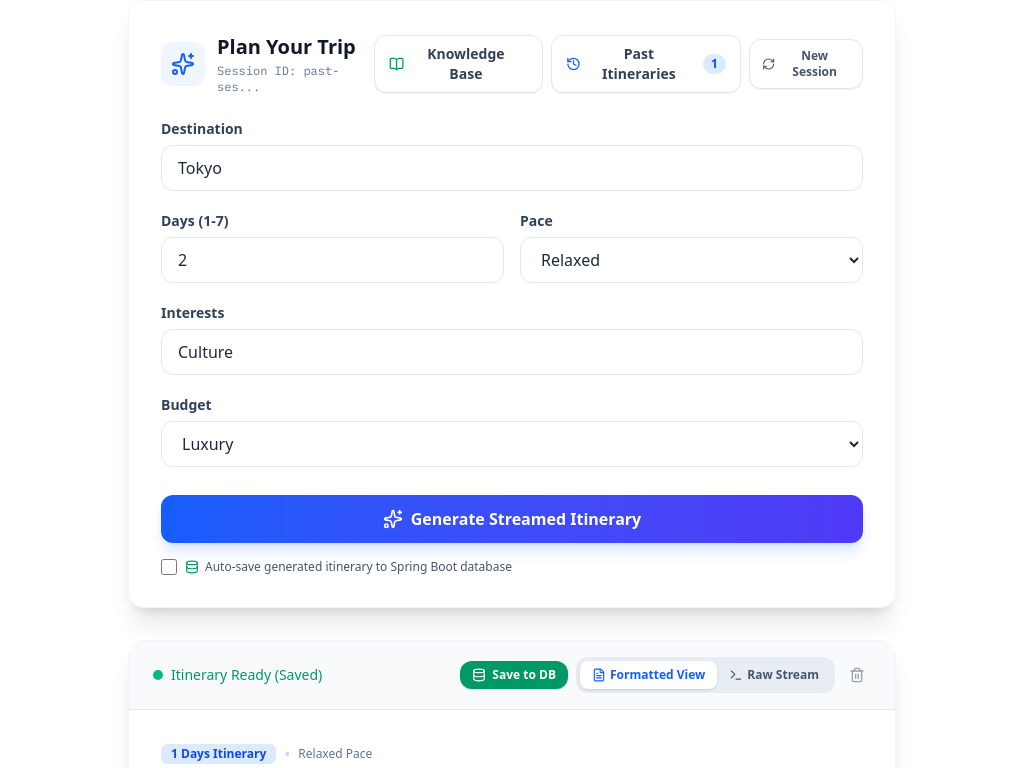
ItineraryForm Component › Auto-save & Manual DB Save Handlers › saves a past itinerary to database from Past Itineraries drawer when Save to DB button is clicked
The image size is (1024, 768).
// Open Past Itineraries drawer
Click the button "Past Itineraries 1": (646, 64) [551,35,741,93]
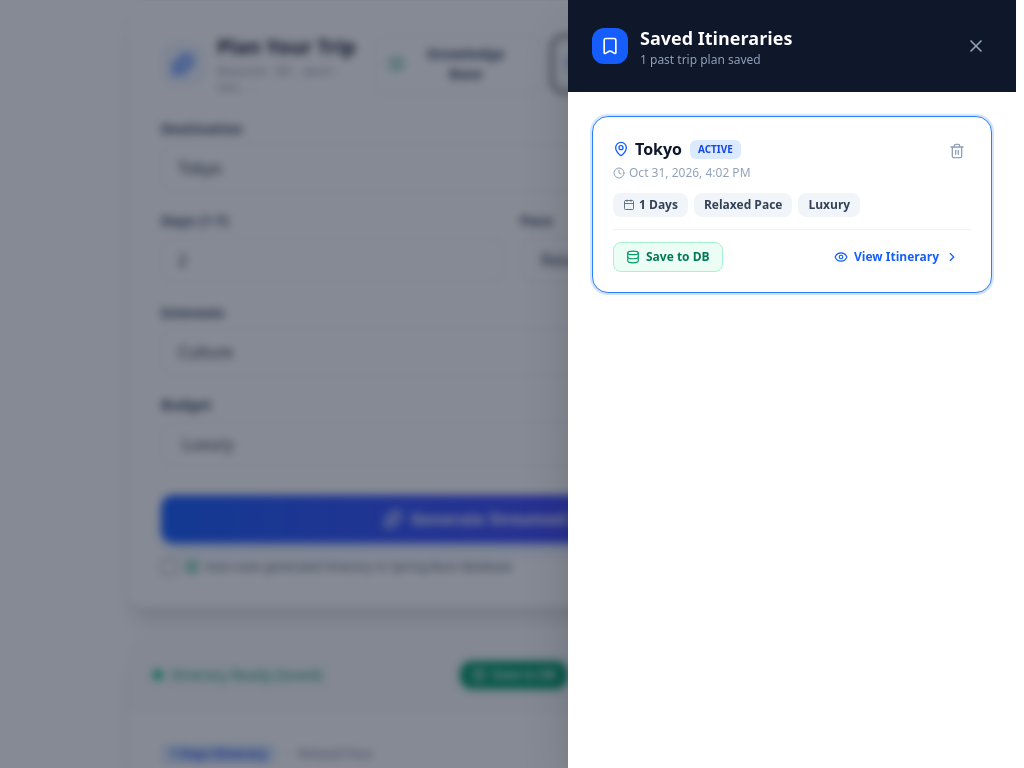
expect the text "Tokyo" is shown: met, box [613,137,682,161]
// Click "Save to DB" button inside drawer for the item
Click the button "Save to DB": (668, 257) [613,242,723,272]
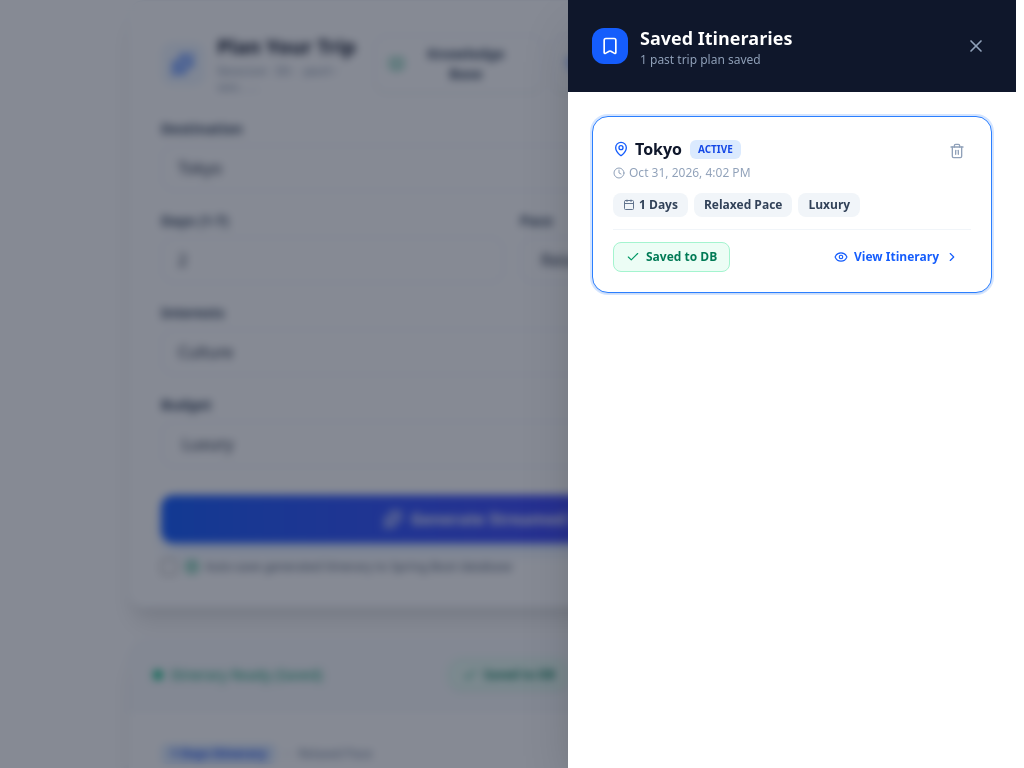
expect the text "Saved to DB" is shown: met, box [646,249,717,265]
